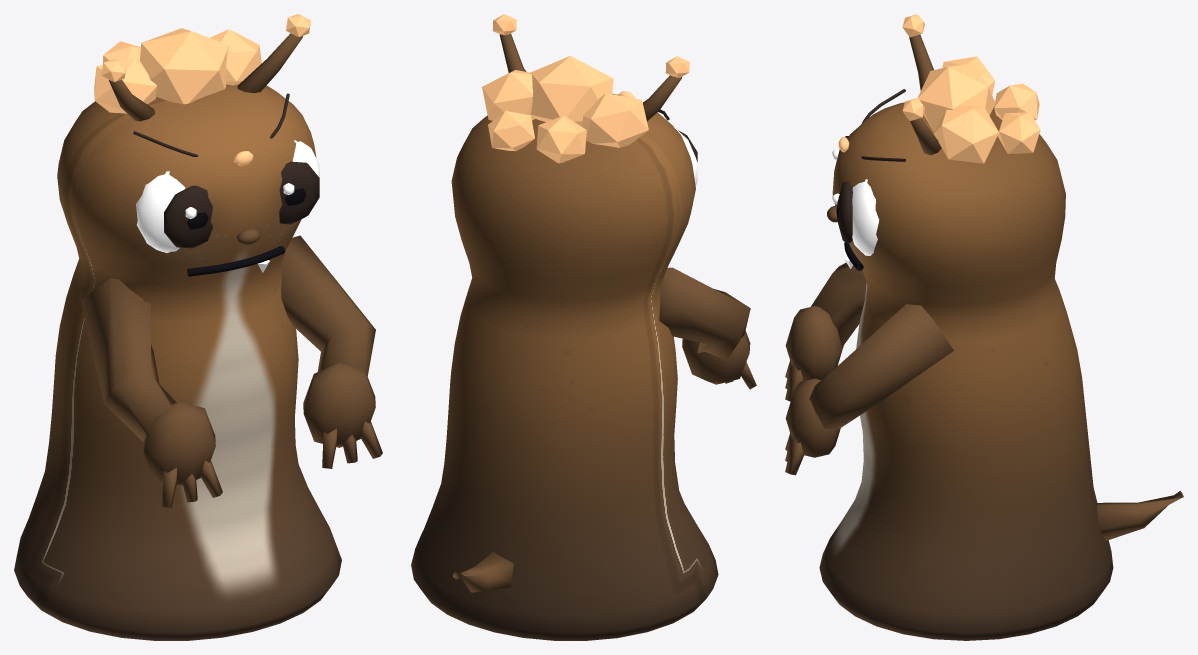
The model's file is bloque_pixar.glb.
3 views of the same model, side by side, from view 1: azimuth 30°, elevation 25°; view 2: azimuth 150°, elevation 25°; view 3: azimuth 270°, elevation 25° (orthographic). The views are drawn at different scales.
Visible parts, largest first — view 1: bloque_cuerpo; view 2: bloque_cuerpo; view 3: bloque_cuerpo.
Boxes of the visible parts, <box> form: bloque_cuerpo: <box>14,14,382,640</box>; bloque_cuerpo: <box>411,14,756,640</box>; bloque_cuerpo: <box>785,14,1183,640</box>.
Bounding box in the file's own units: 0.3116 × 0.58 × 0.4025.
5 materials, 1 textured.
